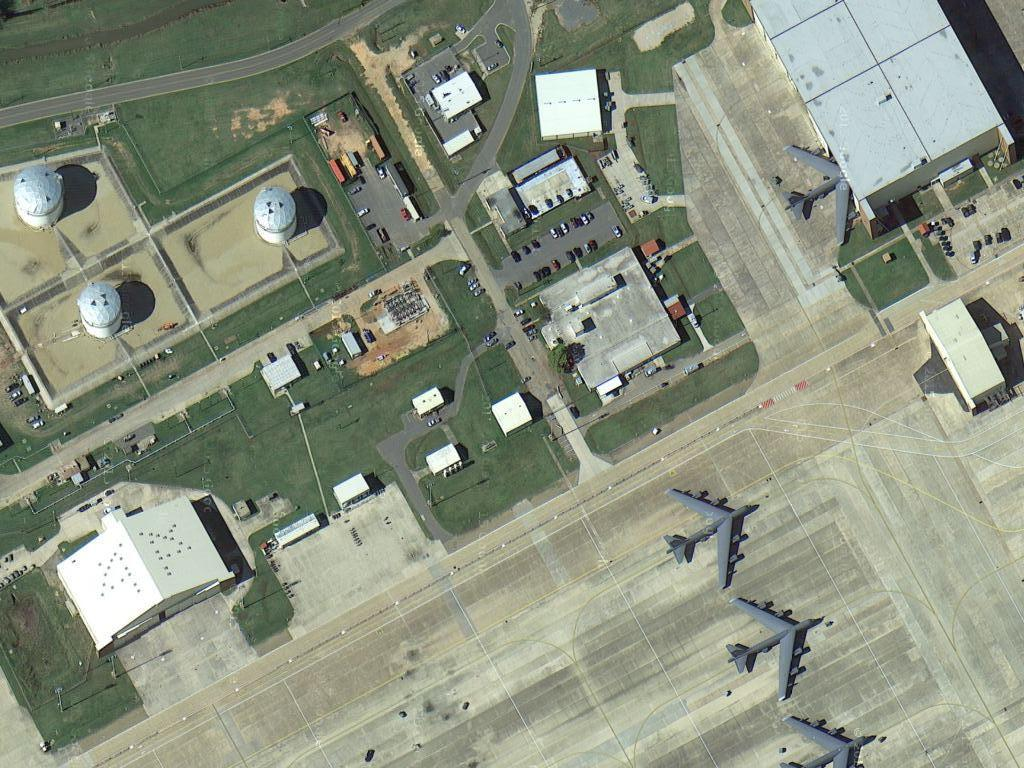B-52: (720, 590, 824, 702), (661, 479, 759, 594), (778, 712, 885, 768)
